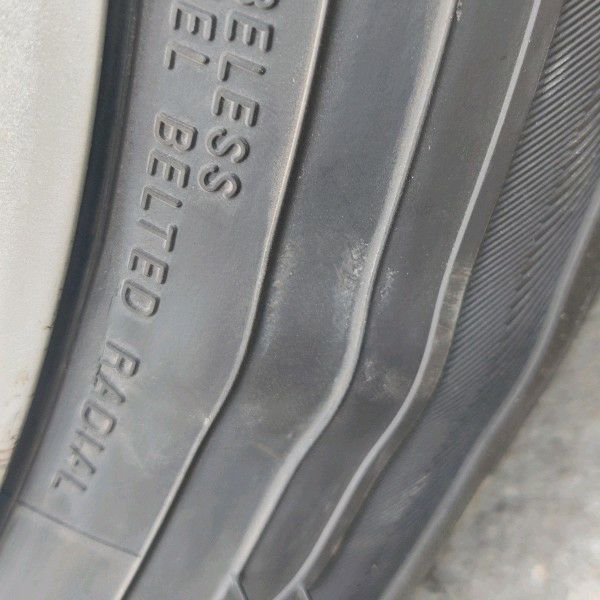CBU: (230, 262, 539, 446)
